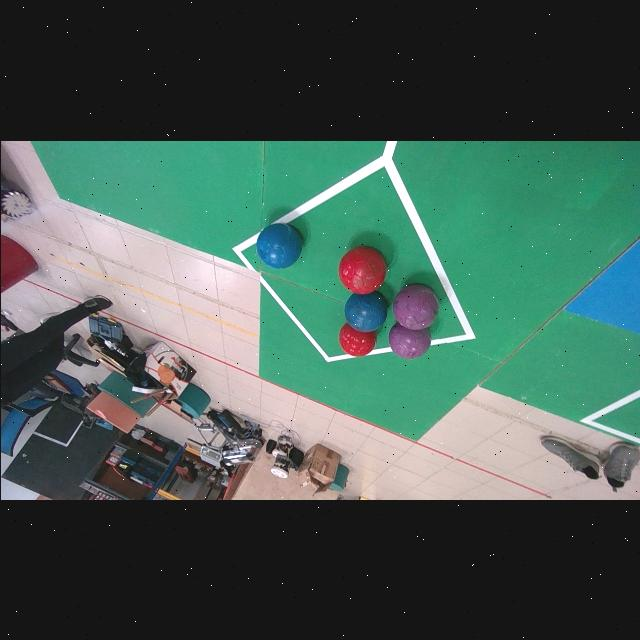B: (257, 223, 301, 268), (344, 291, 386, 331)
P: (392, 284, 439, 330), (388, 322, 430, 359)
R: (338, 246, 386, 294), (338, 323, 376, 356)
